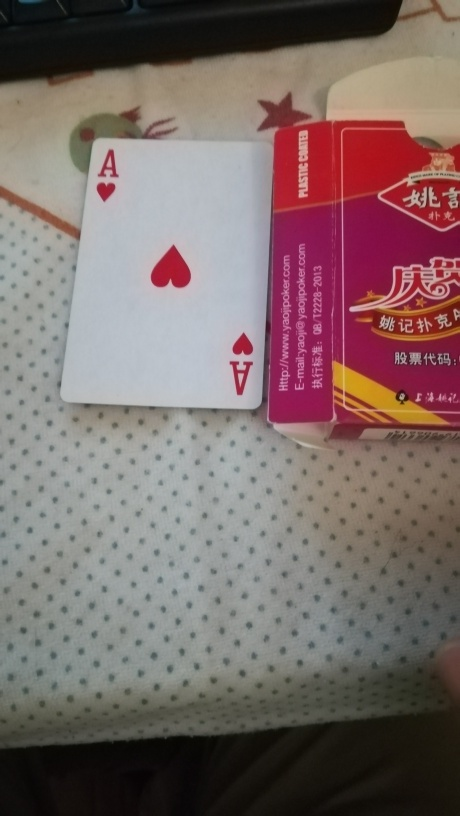hx a: (57, 135, 265, 407)
